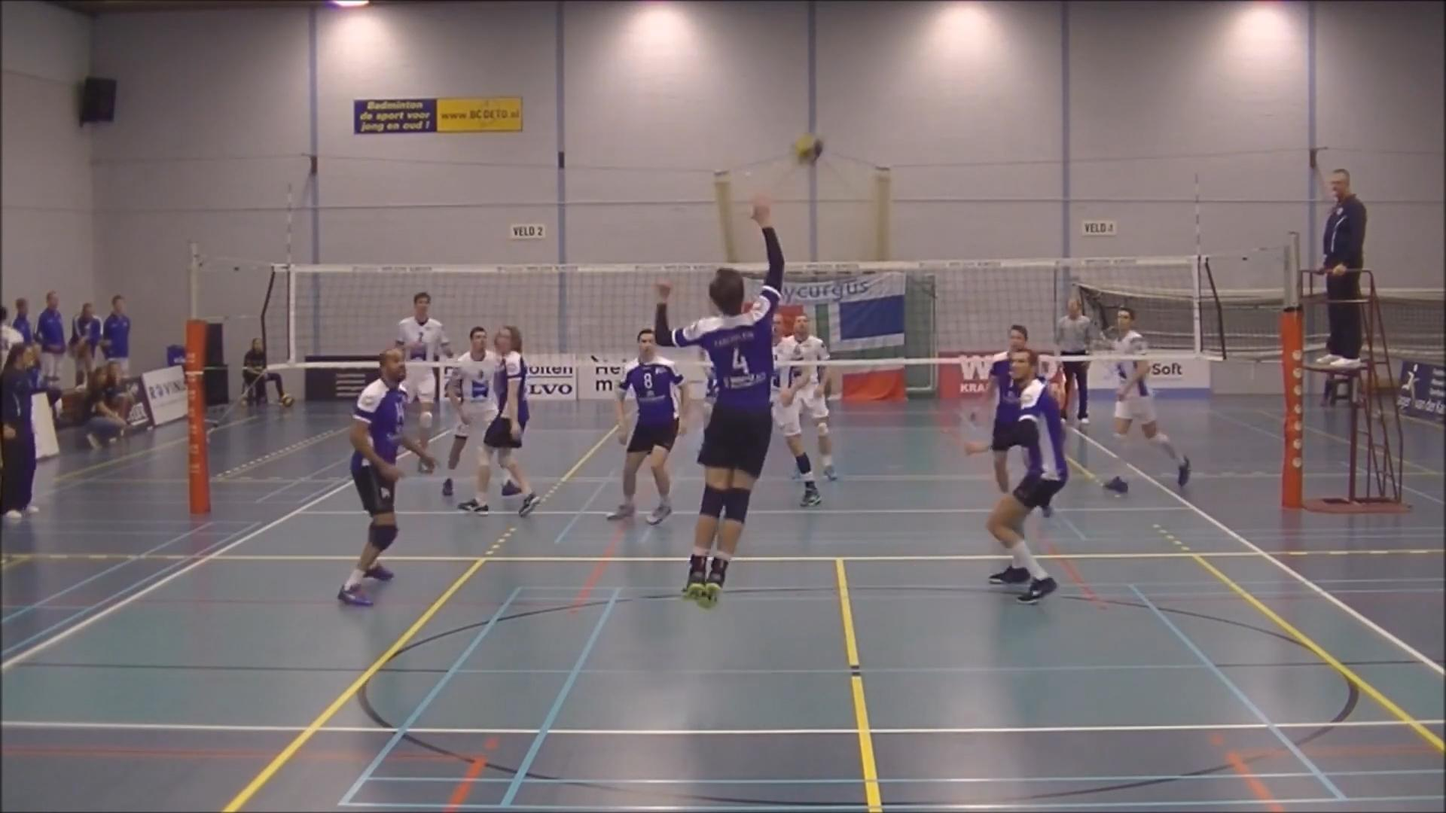battuta: (651, 196, 791, 607)
